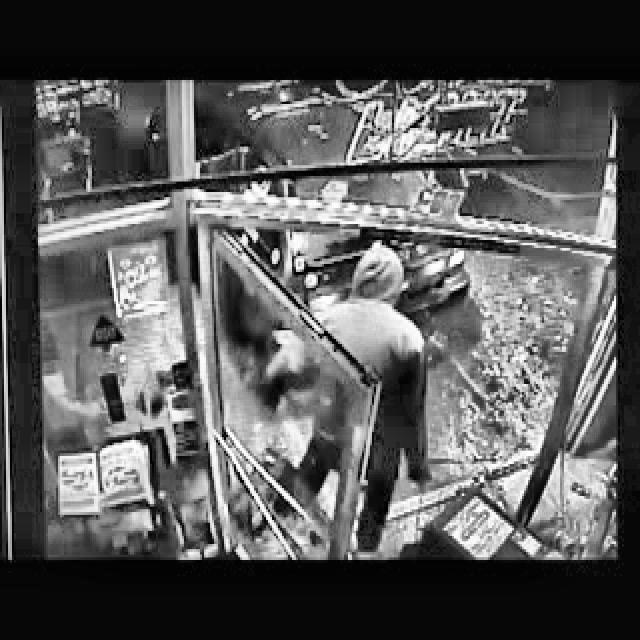burglary: (239, 172, 480, 560)
